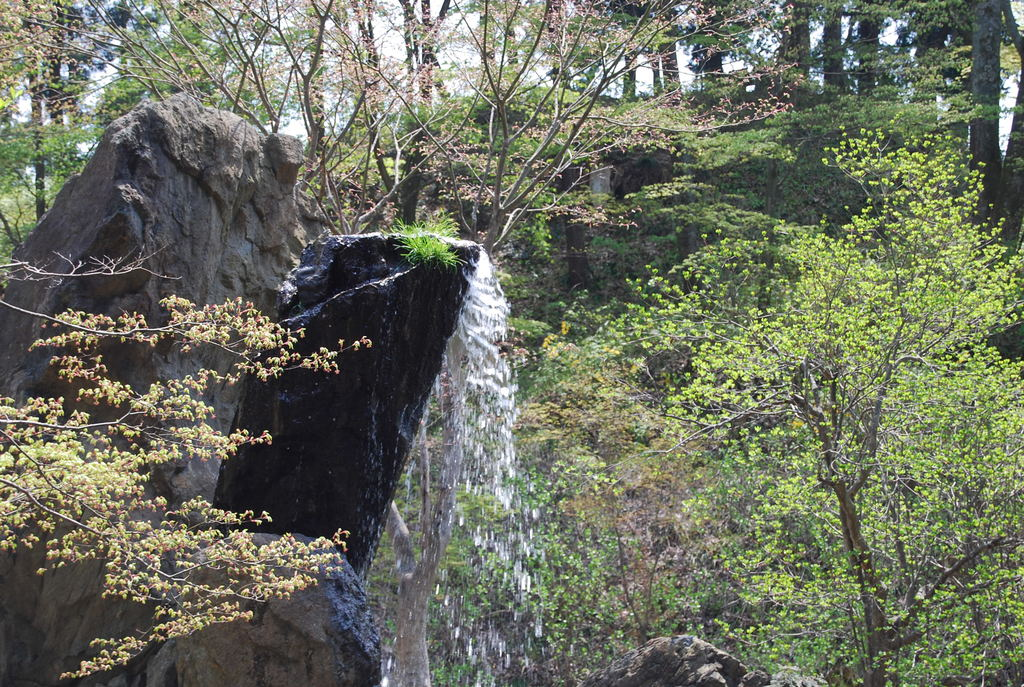Tree: (0, 0, 1023, 287), (583, 136, 1023, 686)
